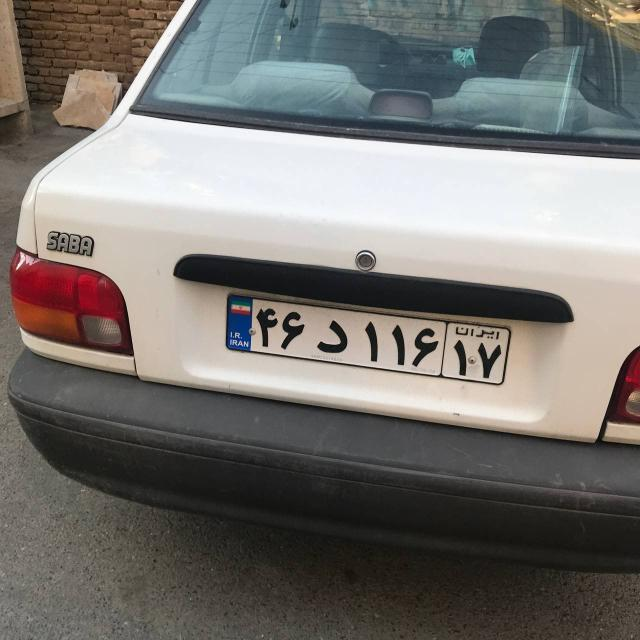Plates: (220, 292, 512, 386)
